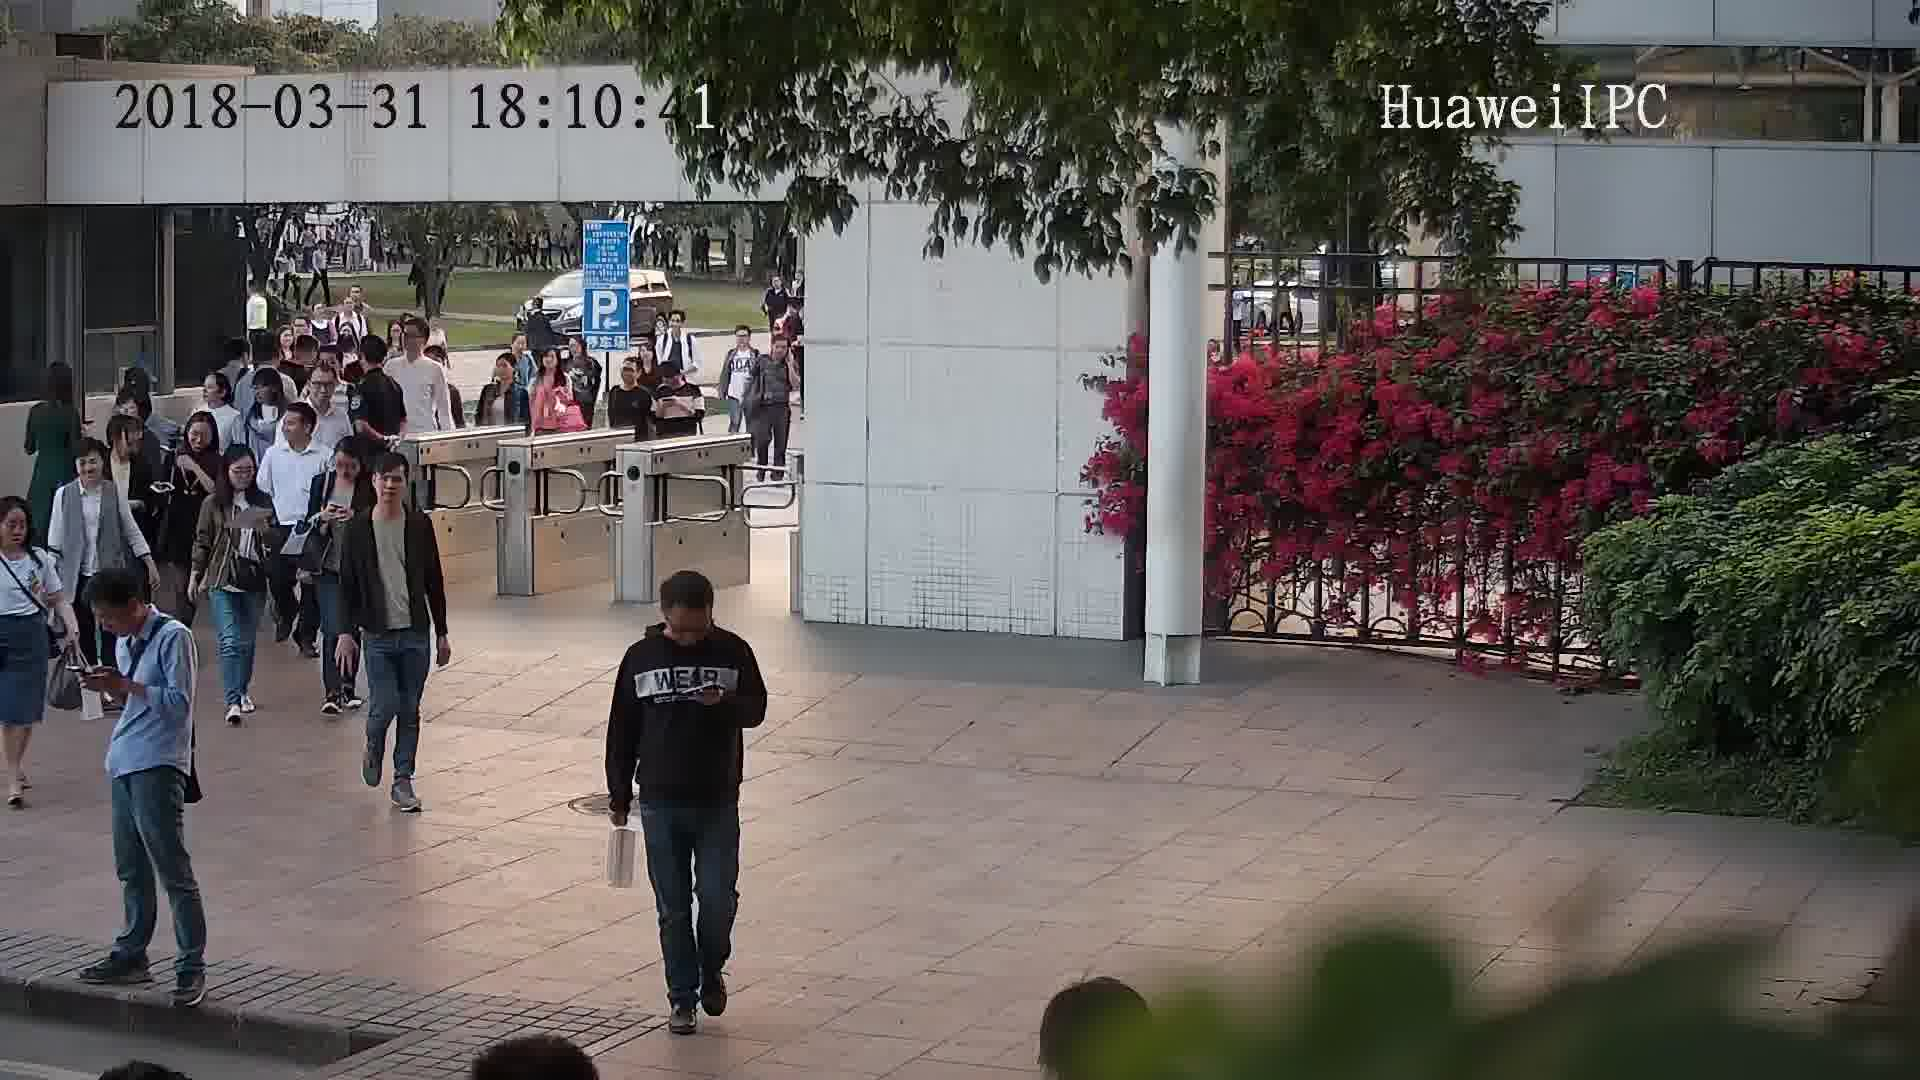face: (368, 466, 411, 506), (91, 599, 131, 638)
person: (621, 564, 753, 671), (89, 563, 190, 661), (350, 447, 433, 540), (56, 436, 130, 510), (200, 444, 274, 517), (266, 403, 328, 475), (1, 493, 51, 577), (317, 431, 376, 501), (30, 356, 86, 427), (170, 409, 227, 471), (113, 367, 162, 436), (300, 368, 356, 428), (105, 411, 155, 473), (243, 369, 293, 426), (356, 332, 401, 395), (391, 314, 436, 376), (197, 370, 244, 428), (310, 345, 356, 395), (215, 334, 256, 386), (530, 344, 572, 391), (484, 354, 525, 401), (655, 359, 705, 397), (757, 324, 800, 368), (610, 357, 649, 406), (425, 332, 459, 385), (722, 320, 764, 364), (501, 323, 539, 369), (329, 296, 371, 332), (632, 338, 662, 376), (760, 274, 794, 307), (661, 308, 692, 344)
